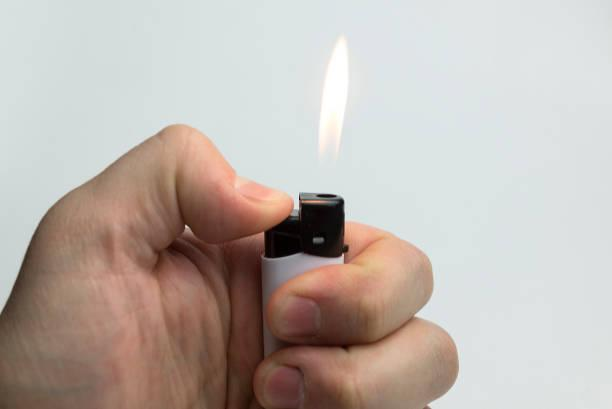Fire: (314, 30, 353, 191)
